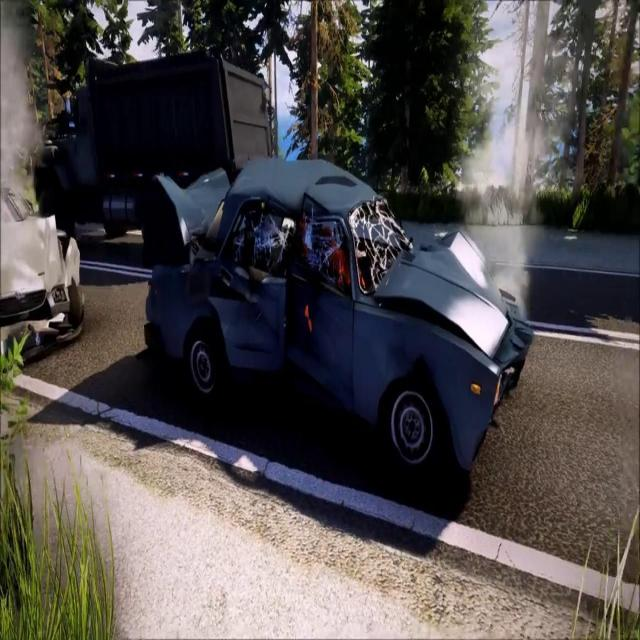accident: (142, 155, 536, 493), (1, 162, 91, 364)
